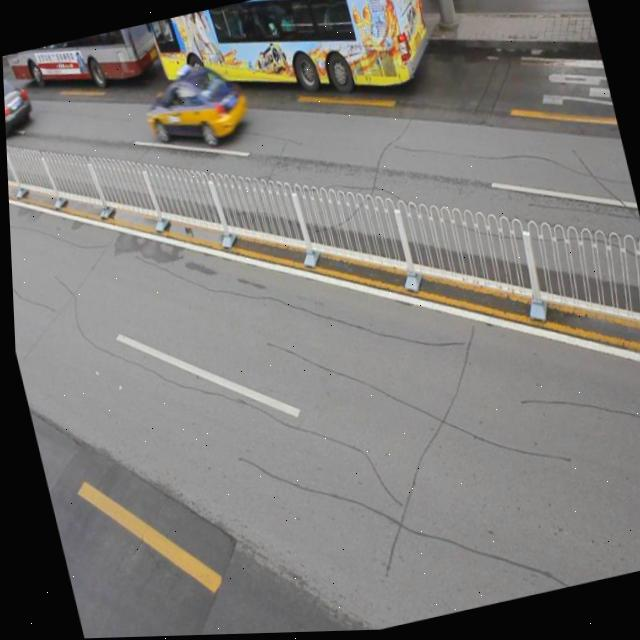car: (137, 58, 251, 161), (2, 68, 37, 143)
van: (148, 0, 441, 145), (4, 23, 166, 111)
